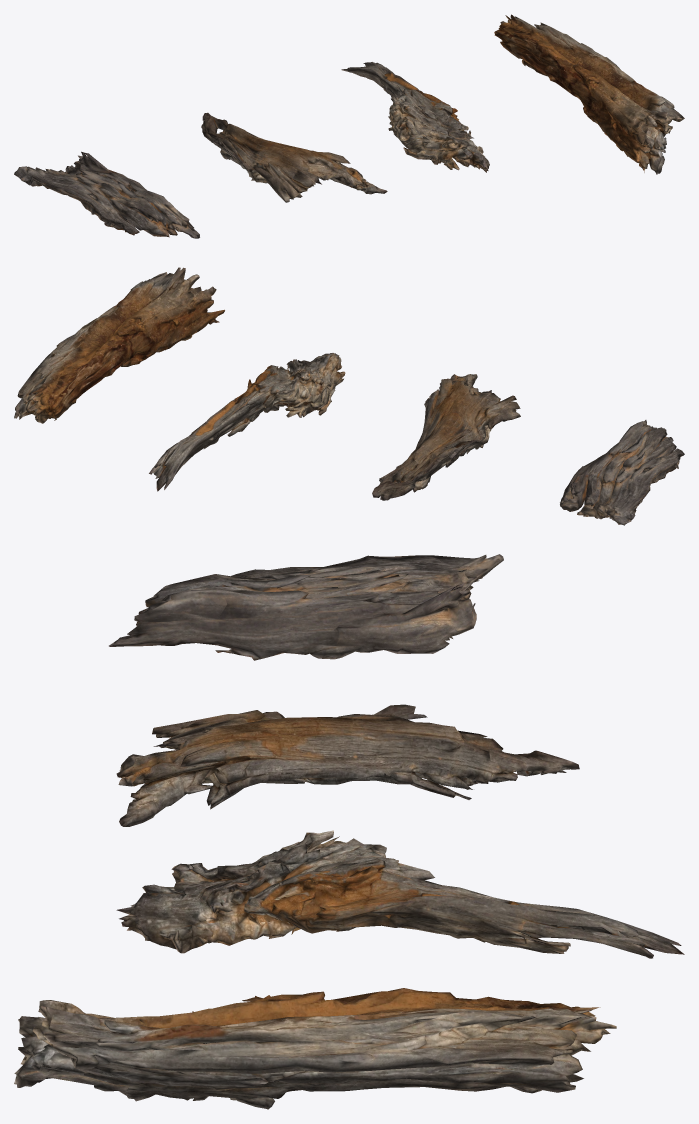
Rendered from bark_debris_01.glb.
3 views of the same model, one above another, from view 1: azimuth 30°, elevation 25°; view 2: azimuth 150°, elevation 25°; view 3: azimuth 270°, elevation 25° (orthographic). The views are drawn at different scales.
Visible parts, largest first — view 1: bark_debris_01_a; view 2: bark_debris_01_a; view 3: bark_debris_01_a.
Boxes of the visible parts, x1,y1,x2,y2 form: bark_debris_01_a: [14, 14, 684, 238]; bark_debris_01_a: [14, 267, 684, 525]; bark_debris_01_a: [14, 554, 684, 1109].
Bounding box in the file's own units: 1.21 × 0.1117 × 0.6735.
Materials: 1 (1 with a texture image).
